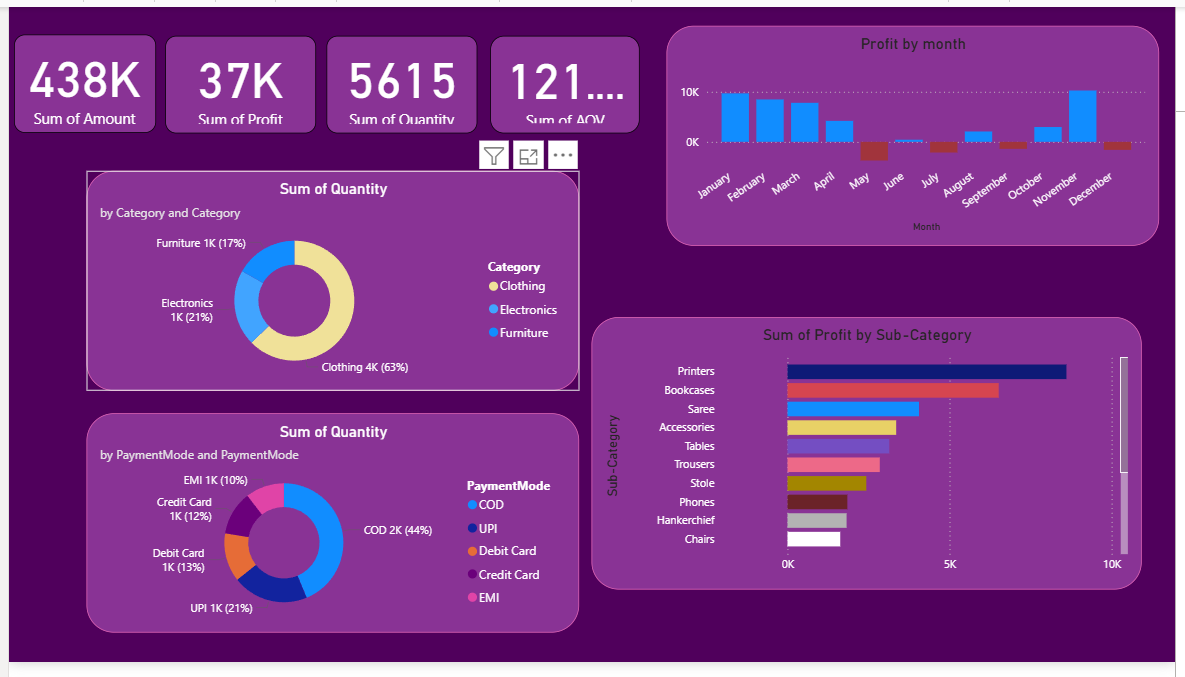

This screenshot's page, from the dashboard's own definition file:
{"tool":"powerbi","page":{"name":"Madhav ECommerce sales dashboard","canvas":[1280,720],"ordinal":0},"visuals":[{"type":"columnChart","title":"Profit by month","fields":{"Category":["Orders.Order Date.Variation.Date Hierarchy.Month"],"Y":["Sum(Details.Profit)"]},"box":[721.8,20.6,540.7,241.5],"z":0},{"type":"barChart","fields":{"Category":["Details.Sub-Category"],"Y":["Sum(Details.Profit)"]},"box":[639.5,340.3,603.8,299.1],"z":1000},{"type":"donutChart","fields":{"Category":["Details.Category"],"Series":["Details.Category"],"Y":["Sum(Details.Quantity)"]},"box":[85.5,180,540.9,241.8],"z":2000},{"type":"donutChart","fields":{"Category":["Details.PaymentMode"],"Y":["Sum(Details.Quantity)"],"Series":["Details.PaymentMode"]},"box":[84.5,446.4,540.9,240.9],"z":3000},{"type":"card","fields":{"Values":["Sum(Details.Amount)"]},"box":[5.8,30.8,155.8,108.3],"z":4000},{"type":"card","fields":{"Values":["Sum(Details.Profit)"]},"box":[171.4,31.4,165.7,107.1],"z":5000},{"type":"card","fields":{"Values":["Sum(Details.Quantity)"]},"box":[348.6,31.4,165.7,107.1],"z":6000},{"type":"card","fields":{"Values":["Sum(Details.AOV)"]},"box":[528.6,31.4,164.3,107.1],"z":7000}]}

Visuals, with their boxes in screenshot pixels (x1, y1, x2, y2), scaled from the page's 1280x720 canvas onto the 1185x677 screenshot:
"Profit by month" columnChart: left=668, top=19, right=1169, bottom=246
barChart - Details.Sub-Category x Sum(Details.Profit): left=592, top=320, right=1151, bottom=601
donutChart - Details.Category x Details.Category: left=79, top=169, right=580, bottom=397
donutChart - Details.PaymentMode x Sum(Details.Quantity): left=78, top=420, right=579, bottom=646
card - Sum(Details.Amount): left=5, top=29, right=150, bottom=131
card - Sum(Details.Profit): left=159, top=30, right=312, bottom=130
card - Sum(Details.Quantity): left=323, top=30, right=476, bottom=130
card - Sum(Details.AOV): left=489, top=30, right=641, bottom=130
